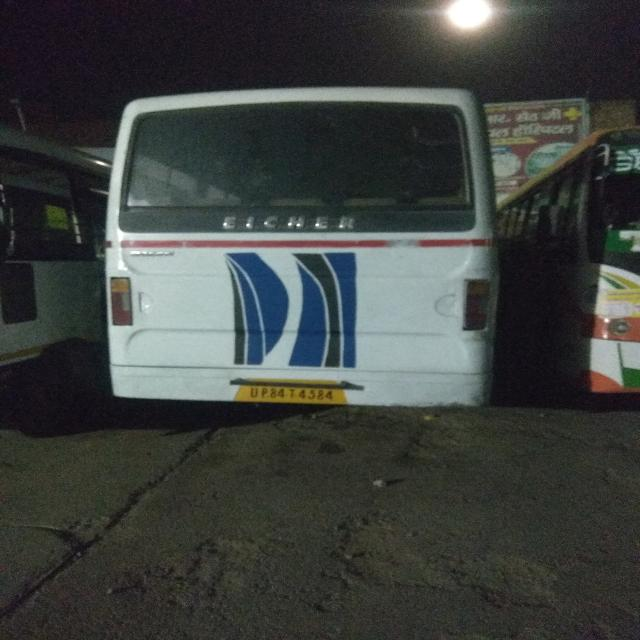Bus: (0, 88, 640, 406)
